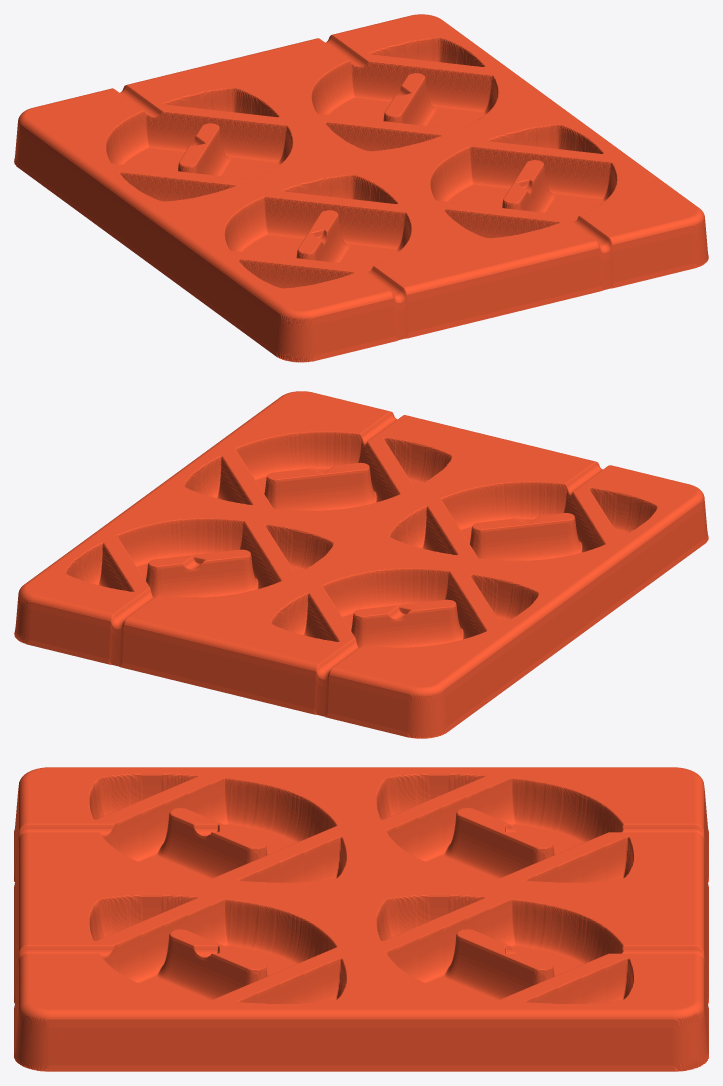
Rendered from mold.glb.
3 views of the same model, one above another, from view 1: azimuth 30°, elevation 25°; view 2: azimuth 150°, elevation 25°; view 3: azimuth 270°, elevation 25° (orthographic). The views are drawn at different scales.
Visible parts, largest first — view 1: geometry_0; view 2: geometry_0; view 3: geometry_0.
Part boxes in pixels (box(x1,y1,x2,y2)): geometry_0: box(14, 14, 708, 362); geometry_0: box(14, 391, 708, 738); geometry_0: box(14, 767, 708, 1071).
Size of the model in its own units: 0.1497 by 0.0155 by 0.1735.
